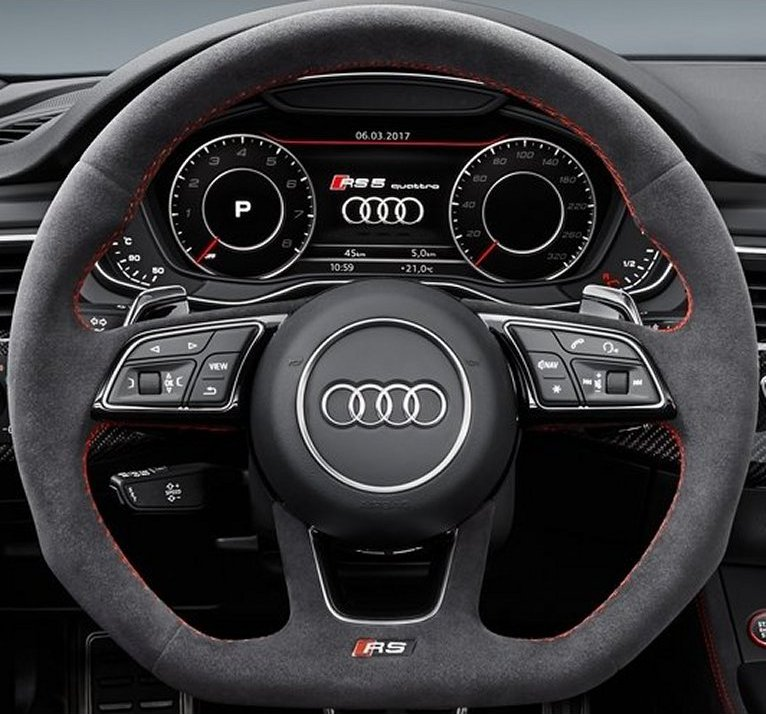audi: (310, 379, 453, 433)
